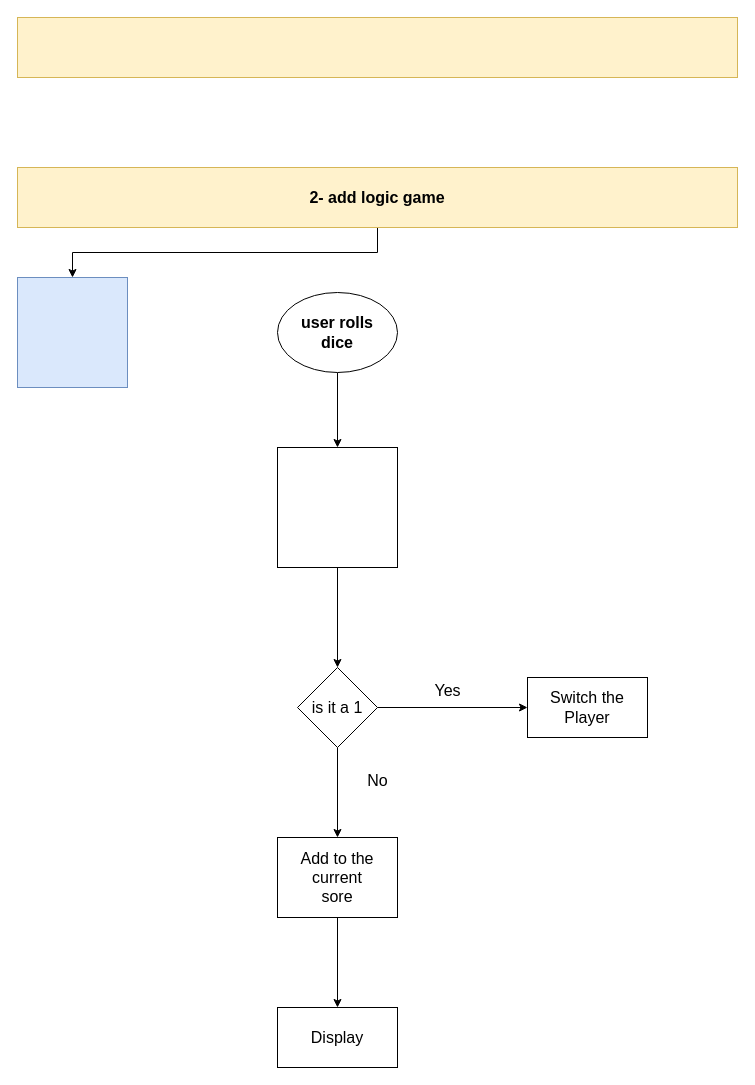
Some shapes in this 755 by 1085 pixel diagram are drawn without their labels. The box of each missing label's shape, as (x1, y1, x2, y2) in pixels:
1- Build the Static version of the game: (16, 16, 738, 78)
generate random dice roll: (276, 446, 398, 568)
initial state: (16, 276, 128, 388)
